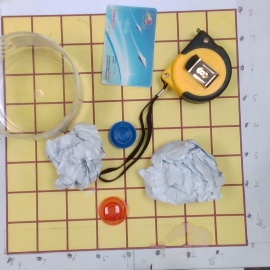card: (102, 5, 158, 88)
